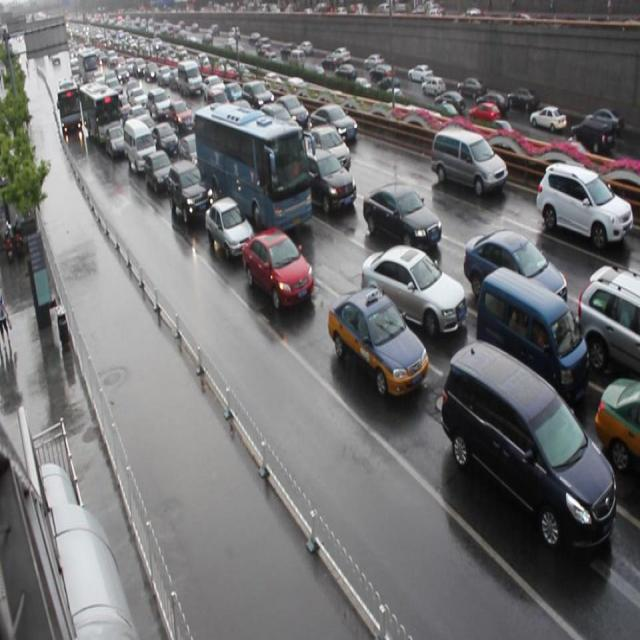car: (328, 287, 428, 396), (360, 244, 465, 337), (534, 159, 632, 251), (462, 229, 566, 307), (576, 264, 640, 374), (362, 182, 440, 253), (242, 229, 312, 308), (593, 378, 640, 473), (306, 149, 356, 211), (205, 196, 254, 258), (169, 160, 212, 224), (304, 128, 349, 178), (308, 105, 355, 150), (143, 149, 174, 192), (270, 97, 305, 134), (178, 134, 205, 171), (152, 122, 178, 154)
truck: (441, 339, 615, 549), (475, 266, 588, 400), (431, 126, 506, 195)
van: (193, 104, 311, 234)
